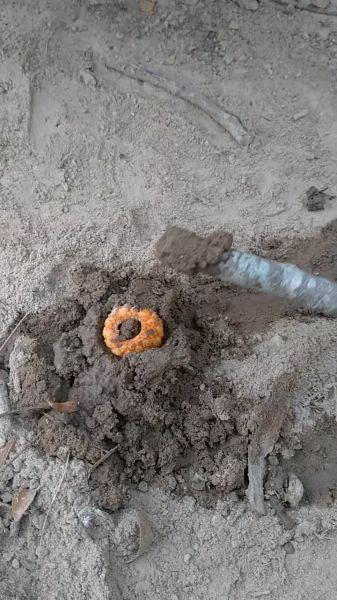eggs: (99, 294, 167, 366)
